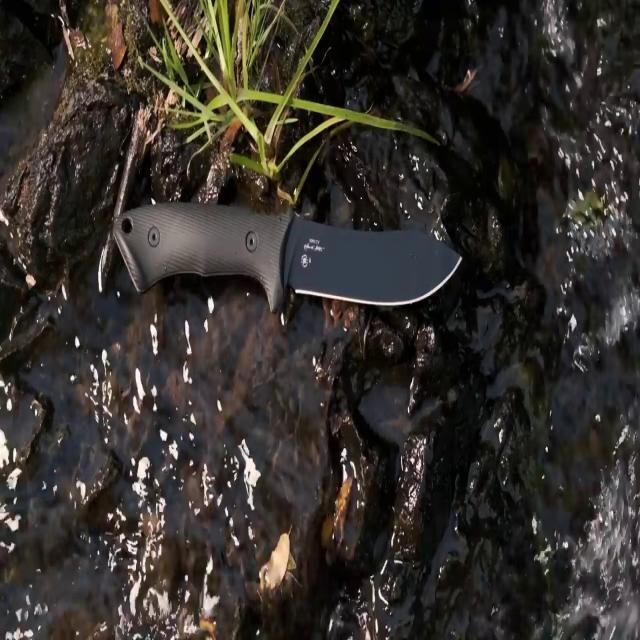Knife: (111, 190, 467, 324)
